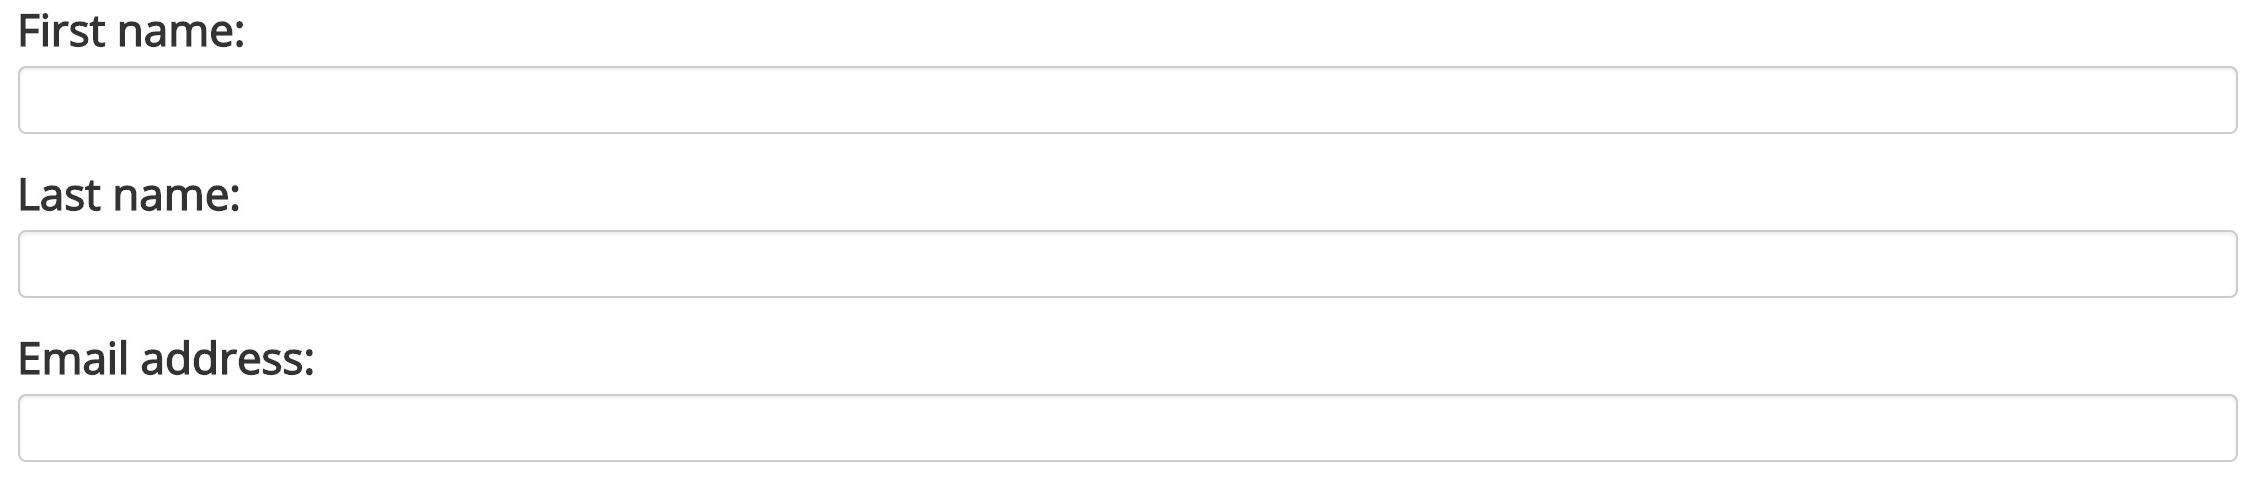field: (17, 386, 2237, 469), (12, 59, 2237, 140), (14, 223, 2237, 301)
field_with_label: (12, 338, 2242, 475), (6, 10, 2242, 143), (10, 176, 2240, 307)
